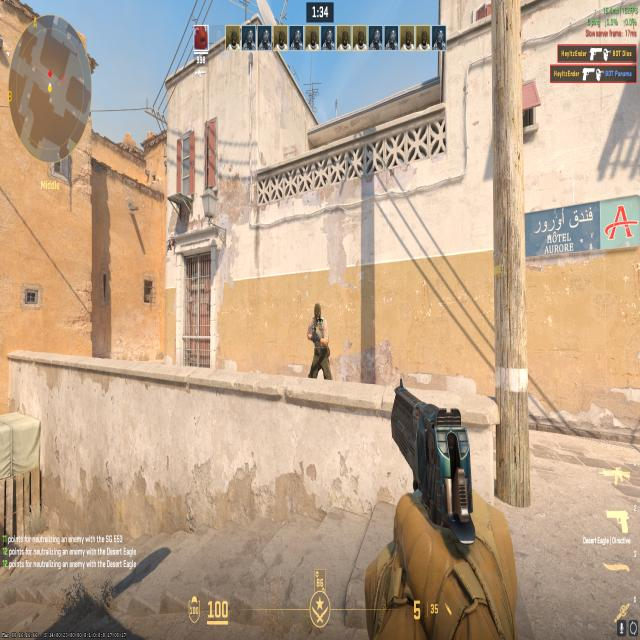t: (303, 298, 333, 382)
